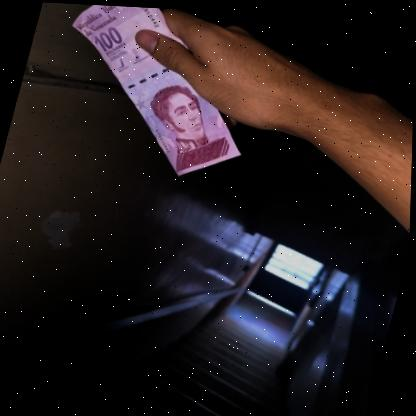one_hundred-front-vef: (41, 2, 277, 191)
